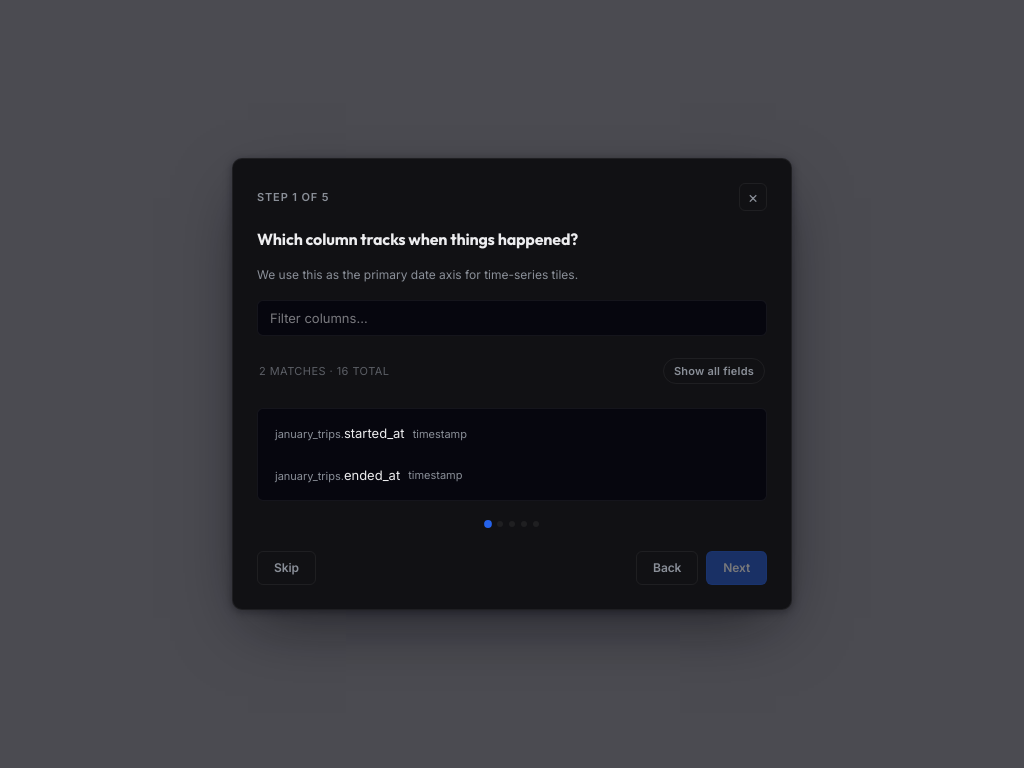
Test: SemanticTagWizard › real backend schema (no role field) › step 2 (measure) shows every numeric column from every table
# Advance past the date step by picking started_at.
Click the option with test id "semantic-wizard-option-january_trips.started_at".
click(371, 434)  # box [264,415,478,453]
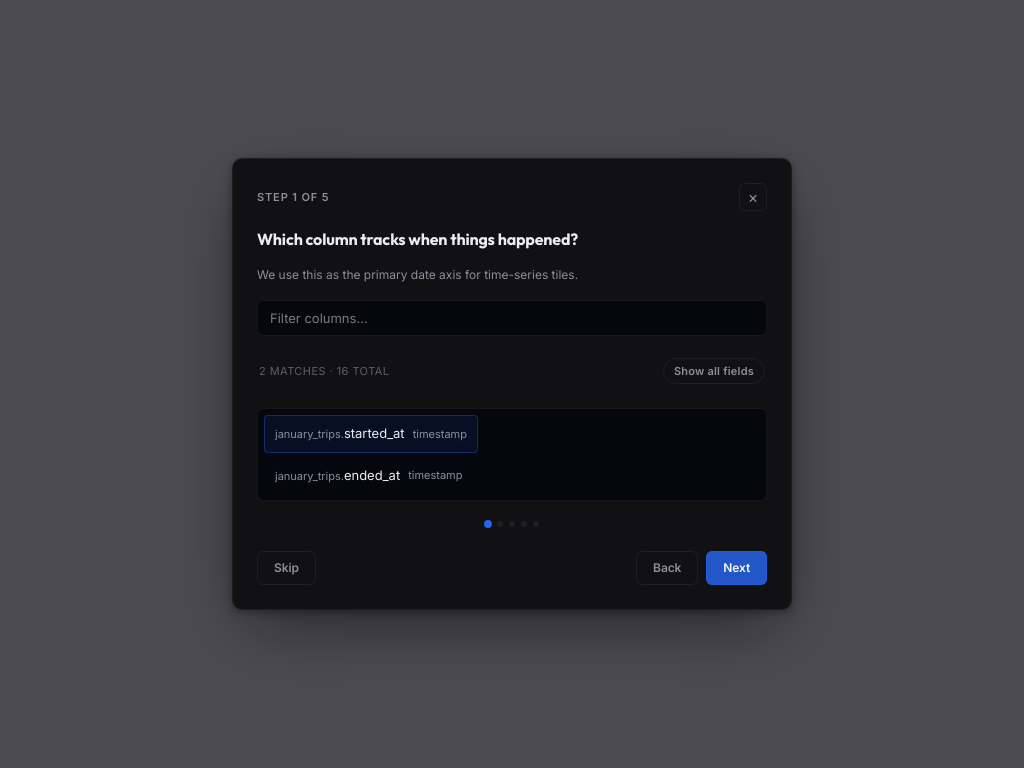
Click the button with test id "semantic-wizard-next".
click(737, 568)  # box [706,551,767,585]
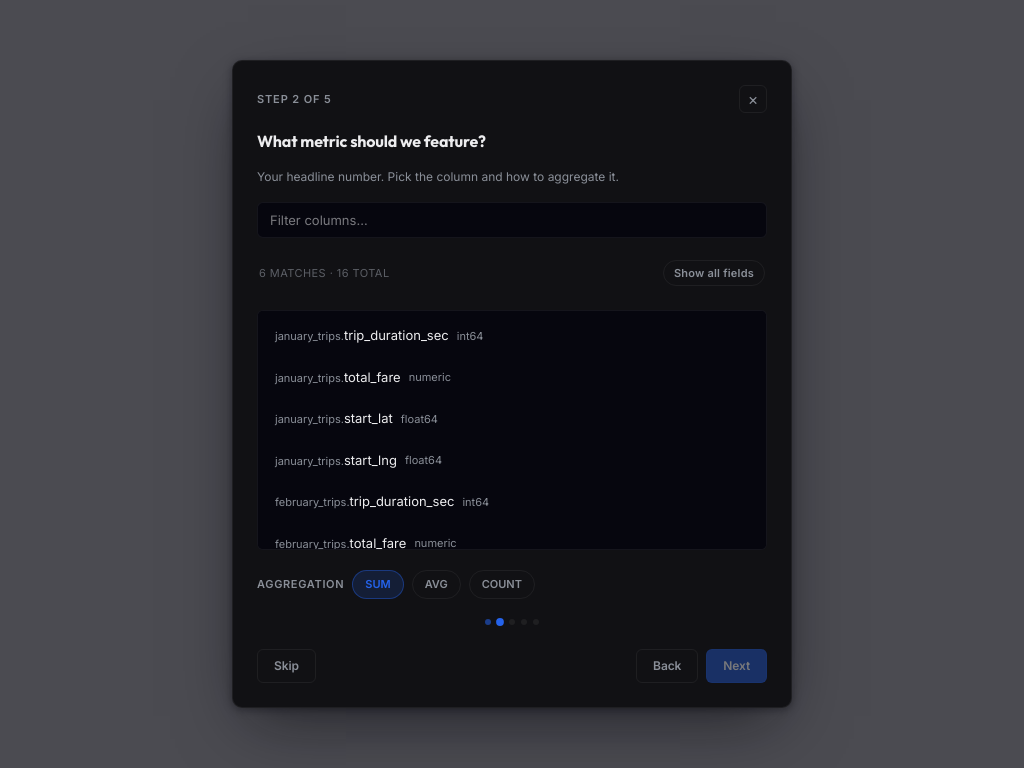
expect the option with test id "semantic-wizard-option-january_trips.trip_duration_sec" is shown: met, box [264,317,494,355]
expect the option with test id "semantic-wizard-option-january_trips.total_fare" is shown: met, box [264,359,462,396]
expect the option with test id "semantic-wizard-option-january_trips.start_lat" is shown: met, box [264,400,449,438]
